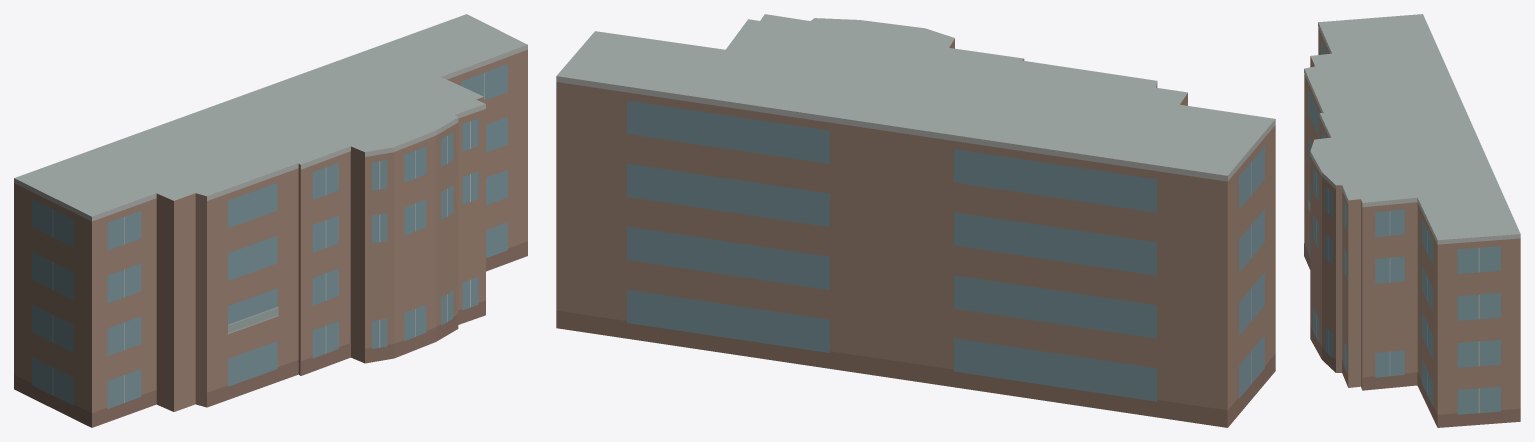
The model's file is survey-upis-32607005.glb.
3 views of the same model, side by side, from view 1: azimuth 30°, elevation 25°; view 2: azimuth 150°, elevation 25°; view 3: azimuth 270°, elevation 25° (orthographic). The views are drawn at different scales.
Visible parts, largest first — view 1: survey-upis-32607005.tmp; view 2: survey-upis-32607005.tmp; view 3: survey-upis-32607005.tmp.
Boxes of the visible parts, x1,y1,x2,y2 form: survey-upis-32607005.tmp: [14, 14, 527, 427]; survey-upis-32607005.tmp: [556, 14, 1275, 427]; survey-upis-32607005.tmp: [1304, 14, 1520, 427].
Bounding box in the file's own units: 27.43 × 10.6 × 11.1.
